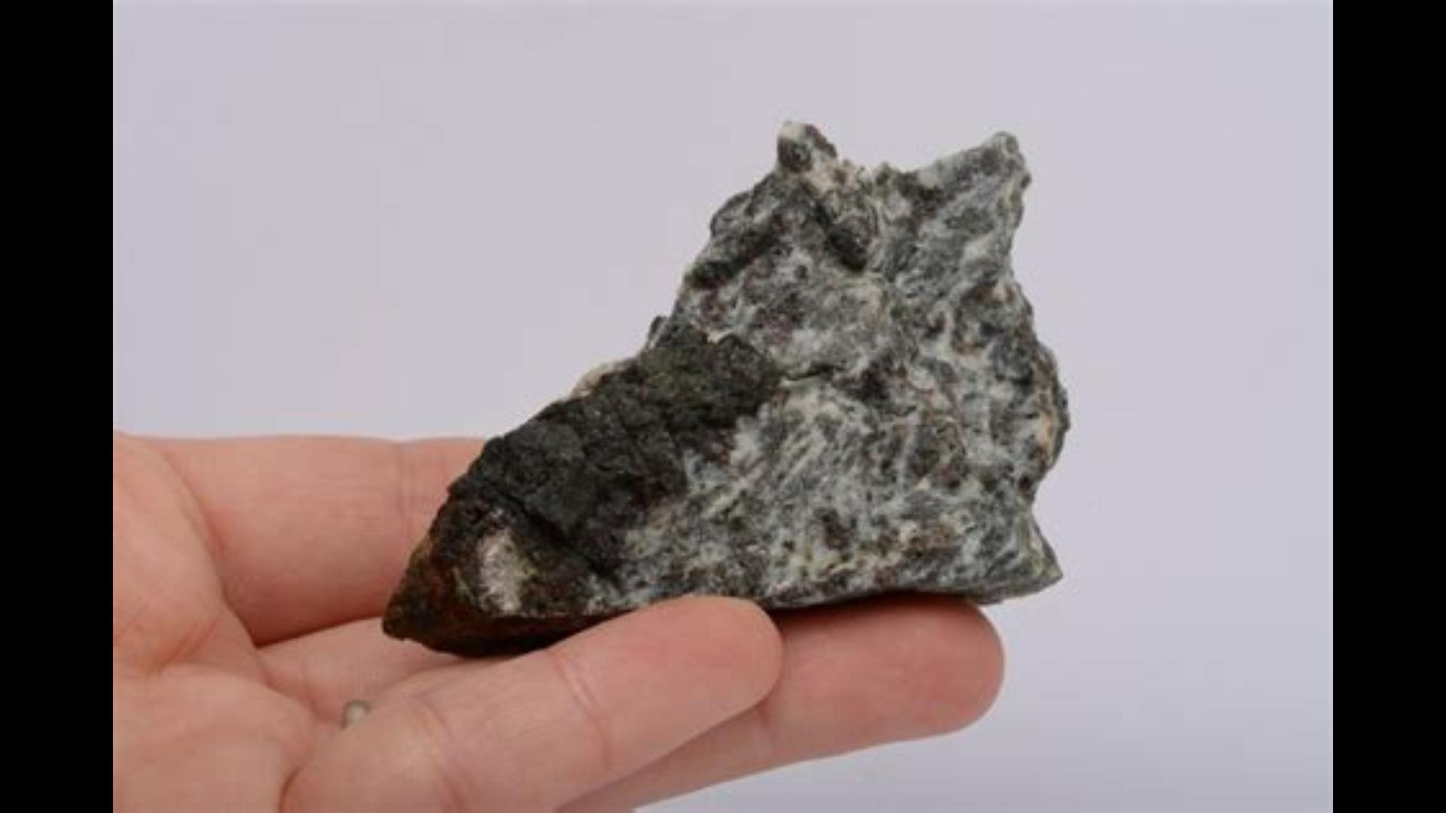rock: (386, 126, 1065, 651)
